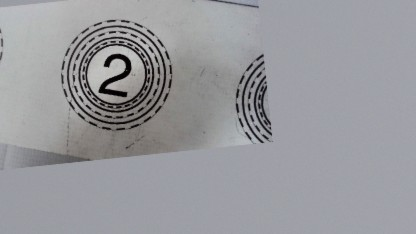2r: (54, 13, 178, 137)
